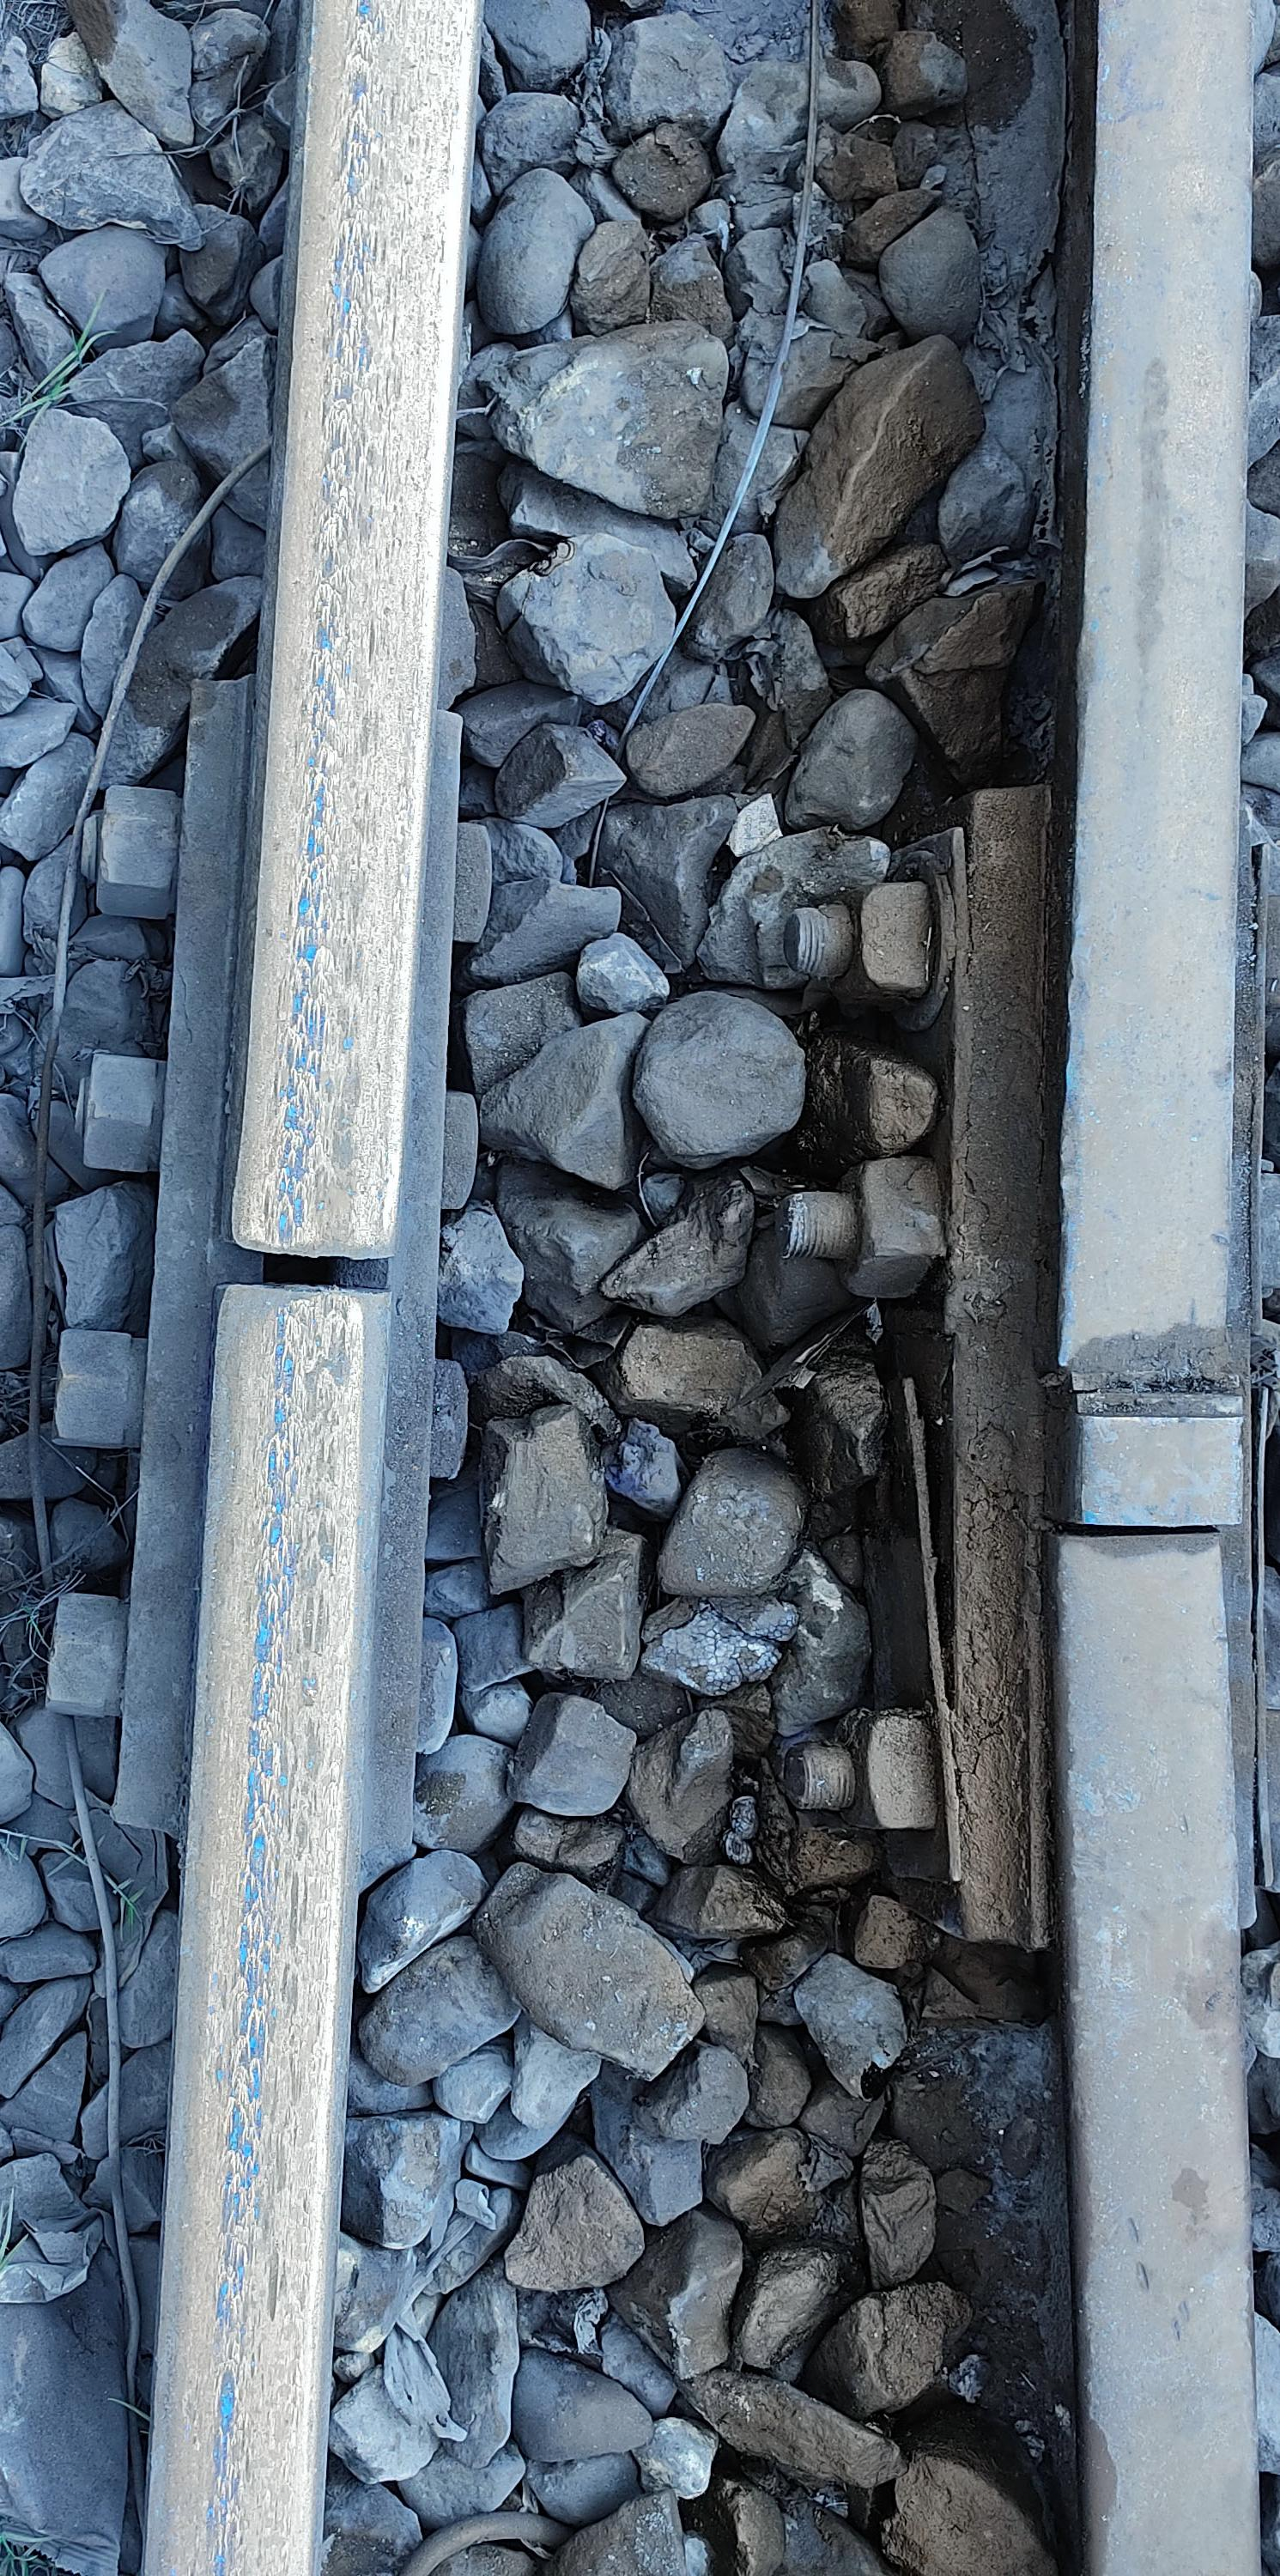error2: (194, 1147, 480, 1479), (1034, 1327, 1257, 1635)
